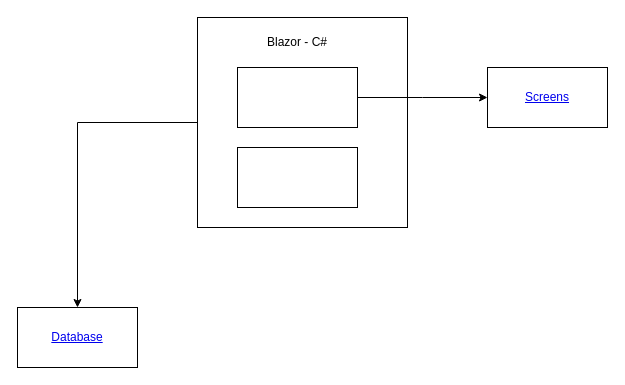
Some shapes in this 625 by 385 pixel diagram are drawn without their labels. The shapes that lost their labels are listed below. From the top down, each one's centre as x and y in pixels, then its label:
At (x=297, y=97): "Client-side".
At (x=297, y=177): "Server-side".
